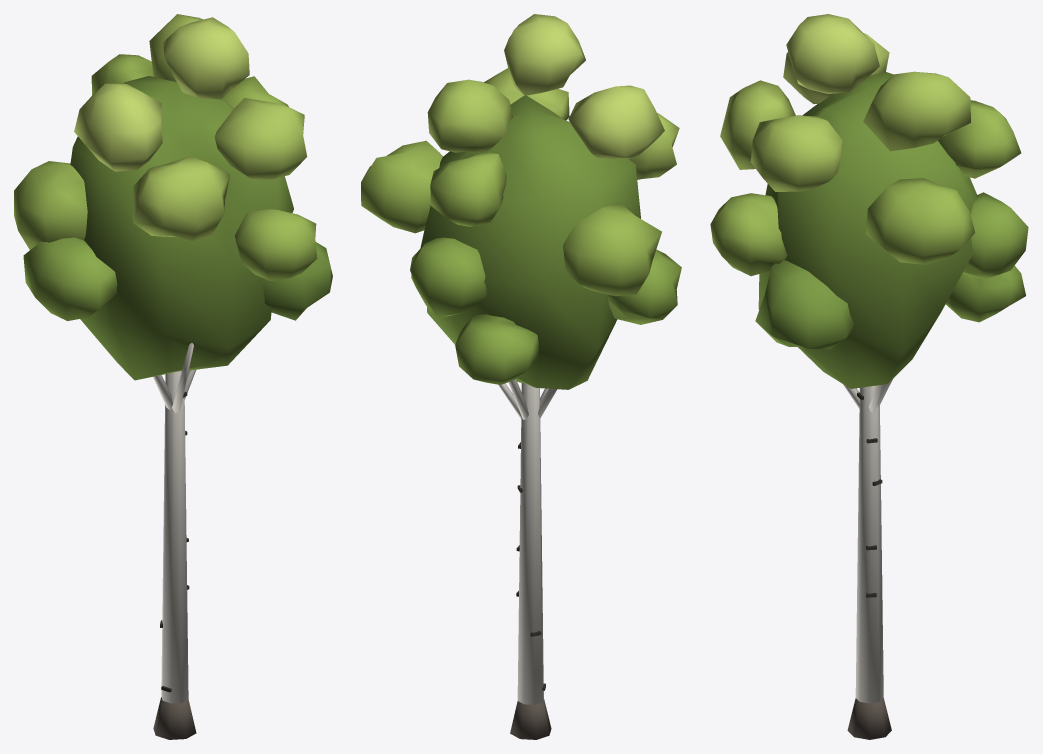
File: birch.glb
The picture shows the model from 3 angles, left to right: view 1: azimuth 30°, elevation 25°; view 2: azimuth 150°, elevation 25°; view 3: azimuth 270°, elevation 25°; orthographic projection. The views are drawn at different scales.
Visible parts, largest first — view 1: birch; view 2: birch; view 3: birch.
Part boxes in pixels (x1=…): birch: x1=14, y1=14, x2=332, y2=739; birch: x1=361, y1=14, x2=681, y2=739; birch: x1=710, y1=14, x2=1028, y2=739.
Size of the model in its own units: 3.45 by 8.18 by 3.29.
